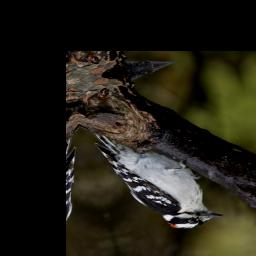Woodpecker: (91, 112, 227, 241)
